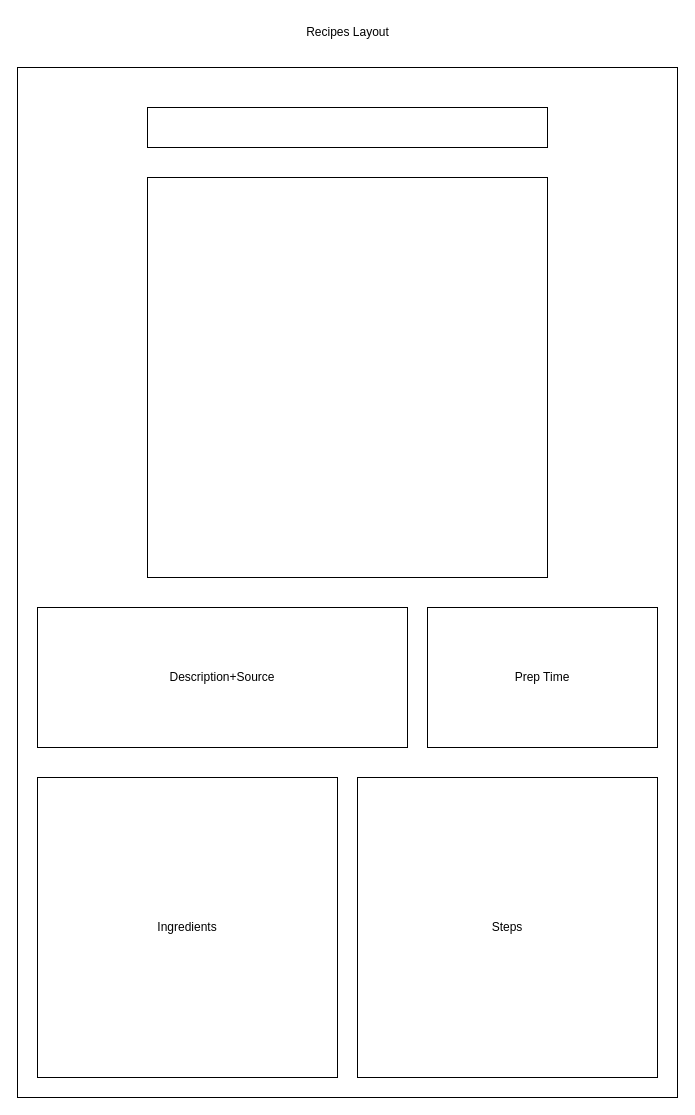
Image size: 695x1115. Some labels were removed from this diagram. Each missing label, with the centre of its shape:
"img" belongs at (x=347, y=377).
"title" belongs at (x=347, y=127).
